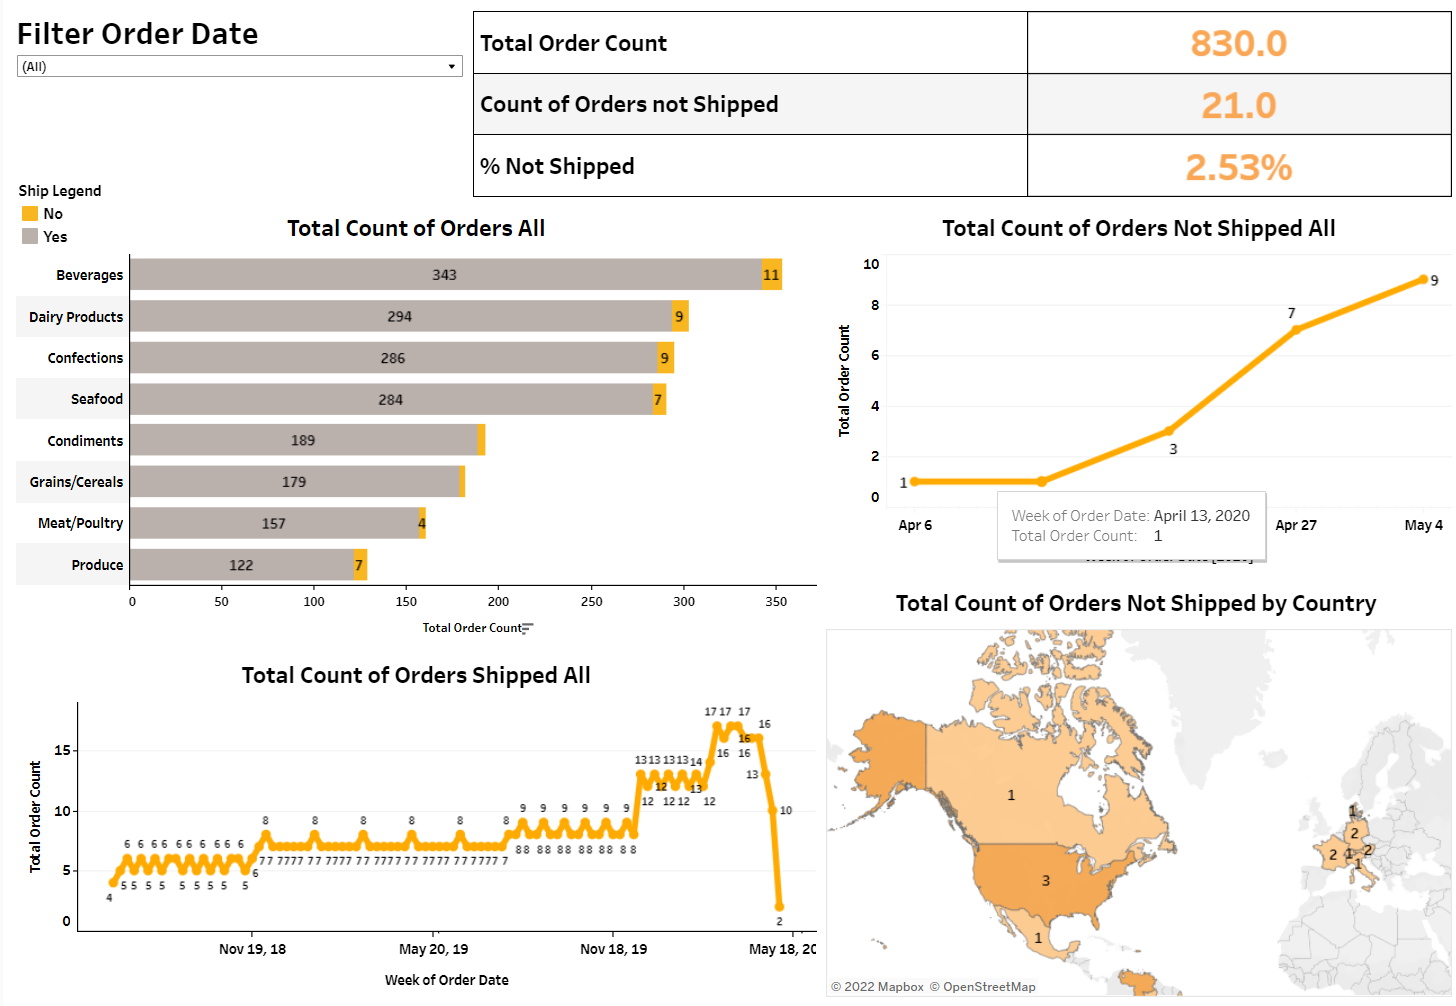

The dashboard page shown, as its layout file describes it:
{"tool":"tableau","page":{"name":"Dashboard 1","canvas":[1300,900],"ordinal":0},"visuals":[{"type":"filter","title":"Count of Orders","param":"[federated.15y85ei016dti91bm2ayw1dtszi3].[my:Calculation_1481895434133929984:ok]","box":[8,8,406,173]},{"type":"worksheet","title":"Headline Cards","mark":"Automatic","box":[414,8,878,173]},{"type":"legend","title":"Count of Orders","param":"[federated.15y85ei016dti91bm2ayw1dtszi3].[none:Calculation_1481895434151337987:n","box":[14,162,118,72]},{"type":"worksheet","title":"Count of Orders","mark":"Automatic","rows":["CategoryName"],"cols":["Calculation_1481895434149076994"],"box":[8,181,720,397]},{"type":"worksheet","title":"Count of Orders for Month (Not Shipped)","mark":"Automatic","rows":["Calculation_1481895434149076994"],"cols":["Calculation_1481895434133929984"],"box":[728,181,564,336.5]},{"type":"worksheet","title":"Count of orders not shipped by country","mark":"Multipolygon","box":[728,517.5,564,374.5]},{"type":"worksheet","title":"Count of Orders for Month","mark":"Automatic","rows":["Calculation_1481895434149076994"],"cols":["Calculation_1481895434133929984"],"box":[8,578,720,314]}]}

Visuals, with their boxes in screenshot pixels (x1, y1, x2, y2), scaled from the page's 1300x900 canvas onto the 1456x1006 screenshot:
"Count of Orders" filter: bbox=[9, 9, 464, 202]
"Headline Cards" worksheet: bbox=[464, 9, 1447, 202]
"Count of Orders" legend: bbox=[16, 181, 148, 262]
"Count of Orders" worksheet: bbox=[9, 202, 815, 646]
"Count of Orders for Month (Not Shipped)" worksheet: bbox=[815, 202, 1447, 578]
"Count of orders not shipped by country" worksheet (Multipolygon marks): bbox=[815, 578, 1447, 997]
"Count of Orders for Month" worksheet: bbox=[9, 646, 815, 997]
